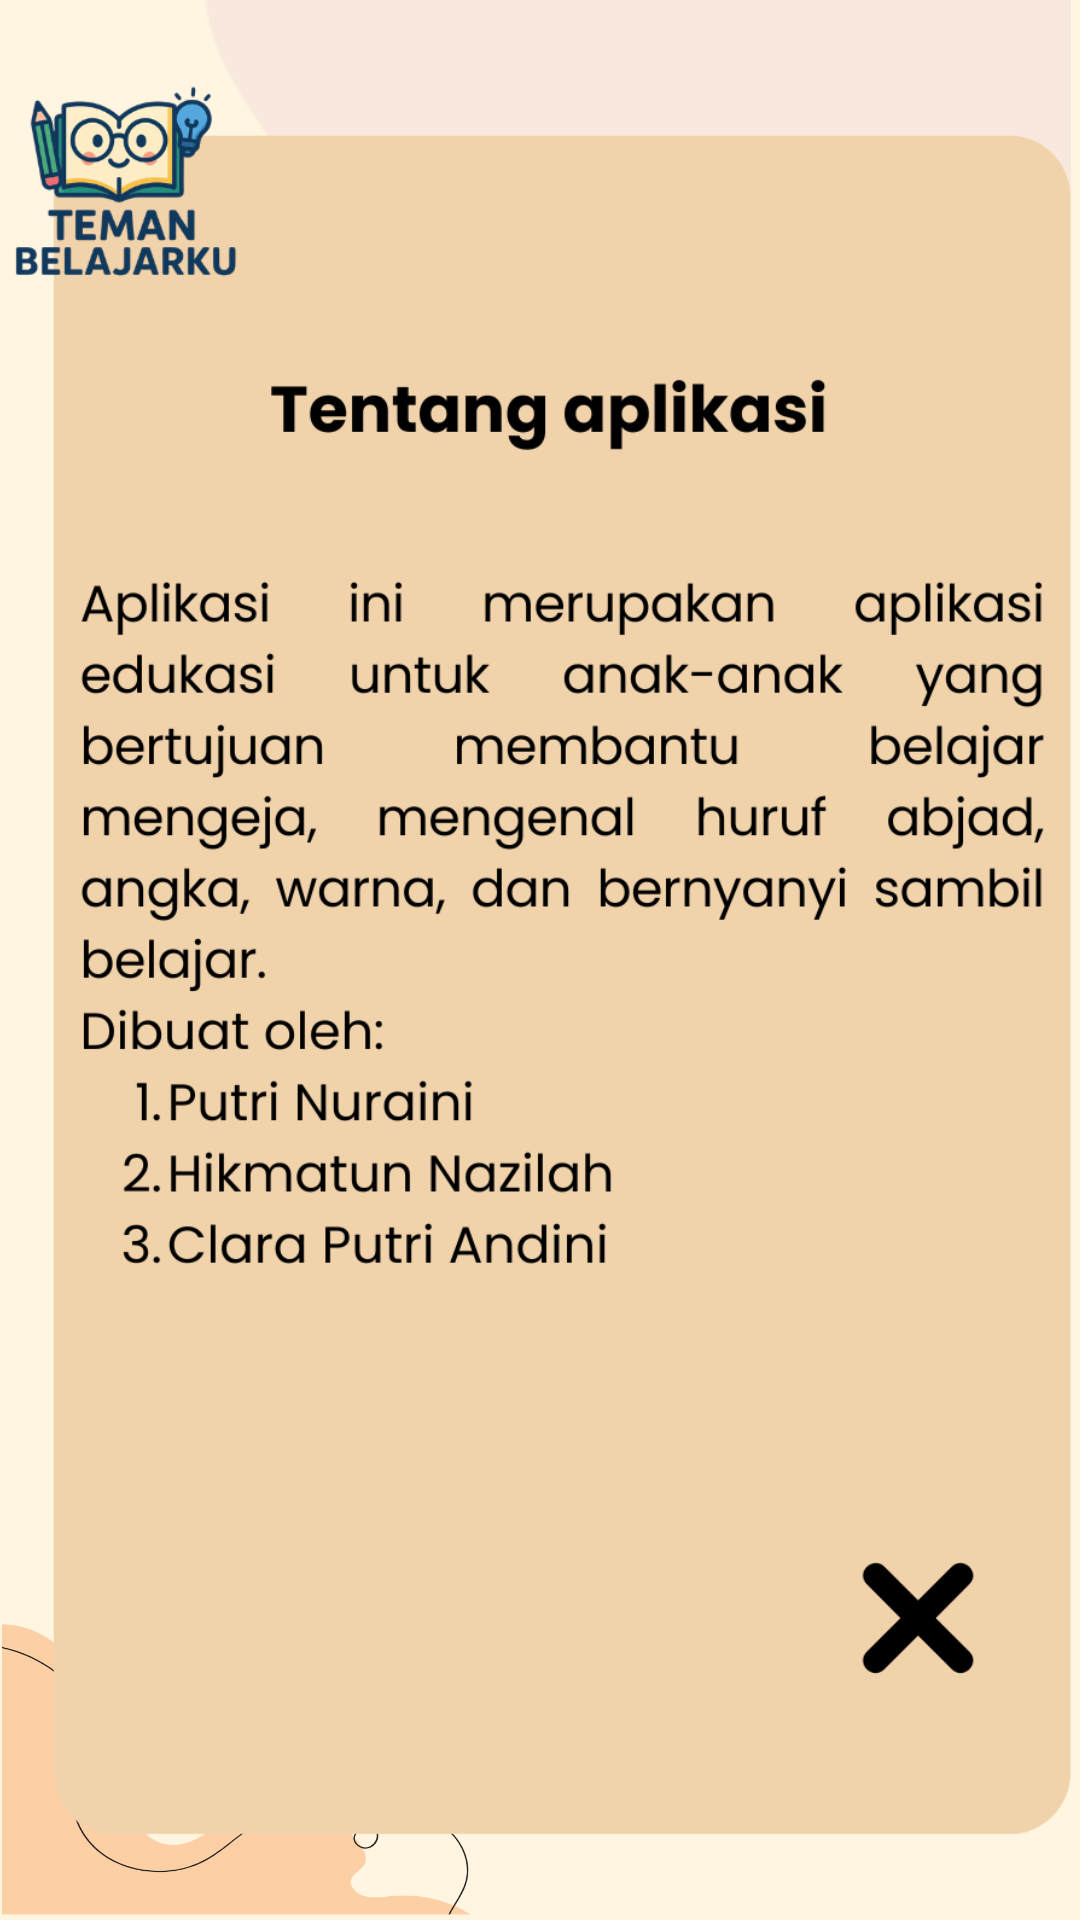

Icons on this 1080w x 1920h Android screen, each with its box as detection(x1, y1, x2, y2):
Kembali: detection(862, 1562, 974, 1674)
